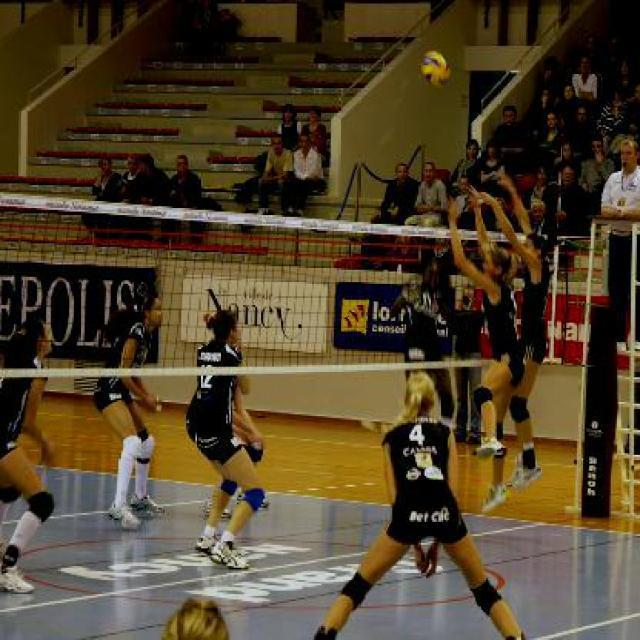volleyball: (420, 51, 450, 87)
